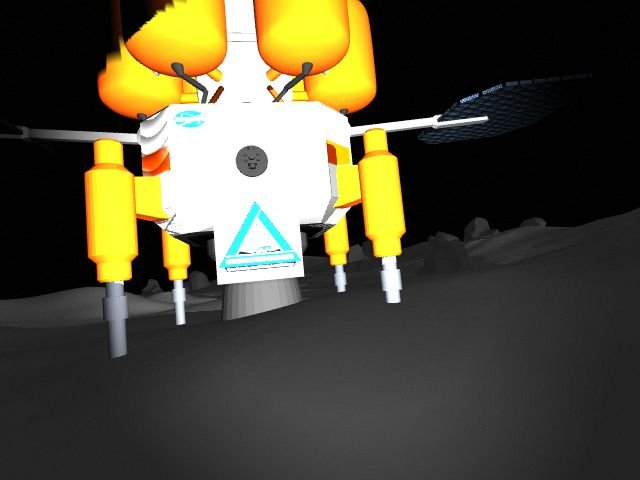basemarker: (218, 200, 301, 273)
